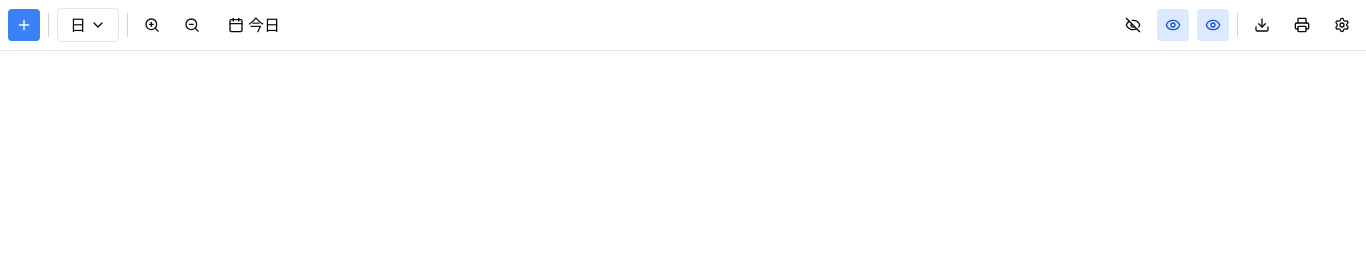
Test case: GanttToolbar › エクスポート機能 › 各エクスポート形式を選択できる
Click the button named "エクスポート": coordinates (1262, 25) [1246, 9, 1278, 41]
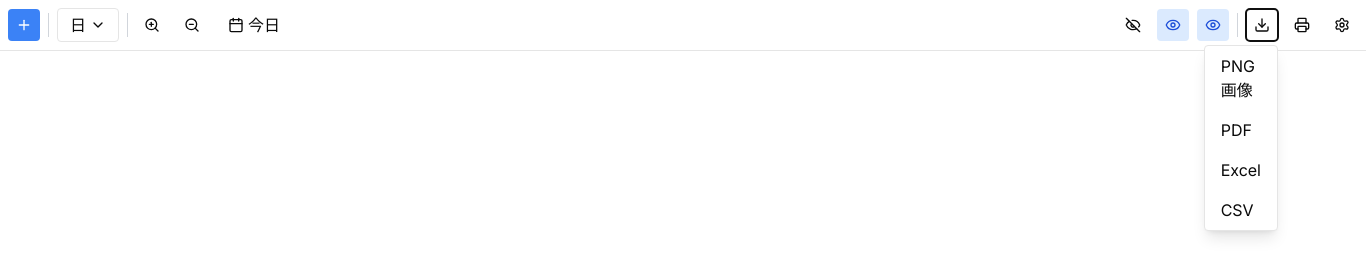
Note: PNG画像を選択
Click the button "PNG画像": coordinates (1241, 78) [1205, 46, 1277, 110]
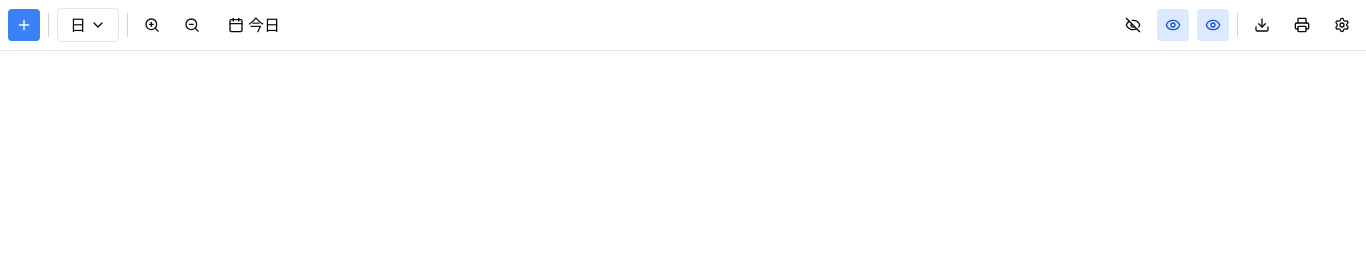
Check: the button "PDF" is gone
